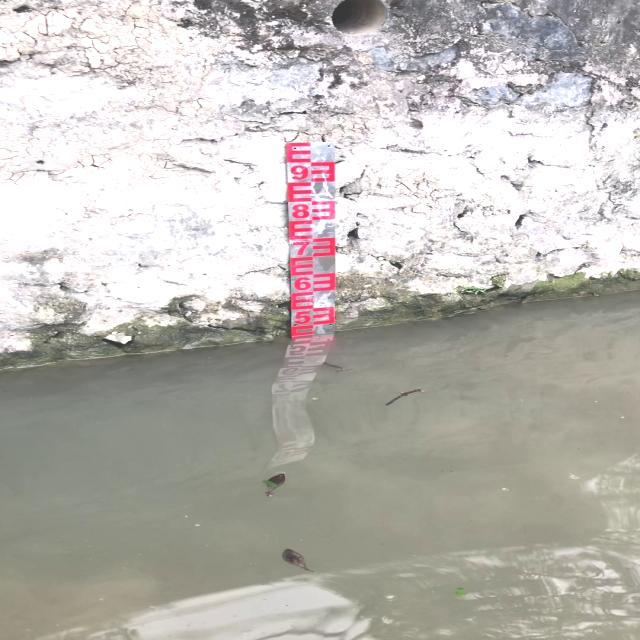ruler: (280, 136, 345, 340)
value: (286, 162, 312, 184), (289, 200, 313, 222), (290, 239, 314, 258), (292, 274, 314, 294), (292, 308, 314, 326)
